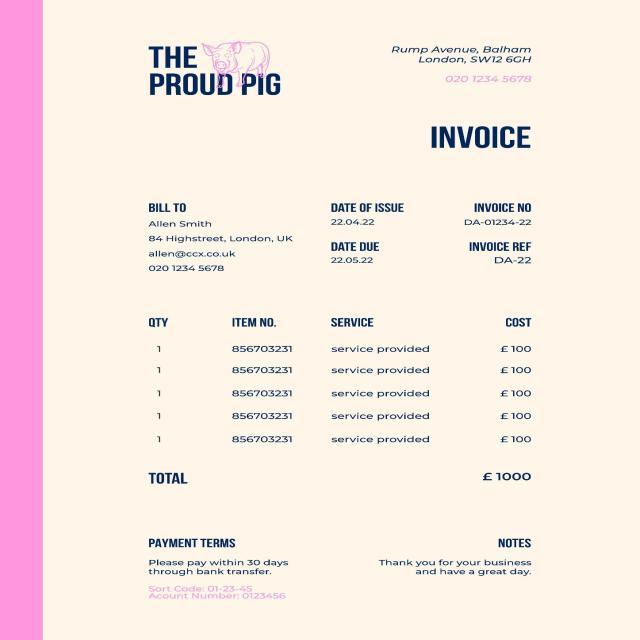ROI: (123, 309, 554, 454), (137, 184, 298, 283), (126, 464, 550, 496), (143, 528, 301, 611), (367, 525, 545, 589), (126, 41, 308, 101), (383, 33, 544, 92), (316, 192, 418, 271), (462, 190, 550, 270), (426, 115, 544, 155)
